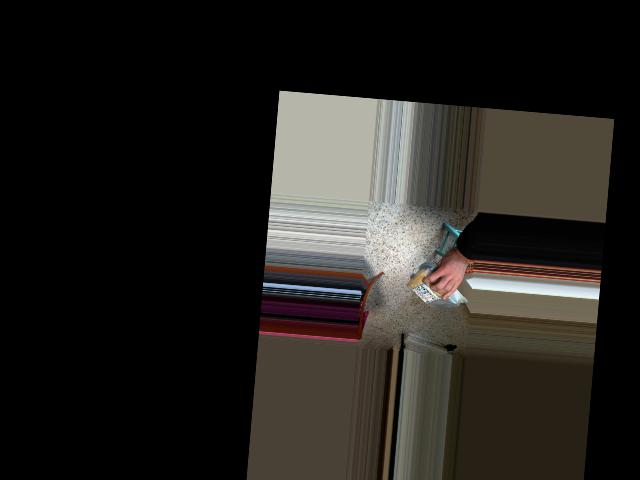cheese: (398, 272, 469, 307)
